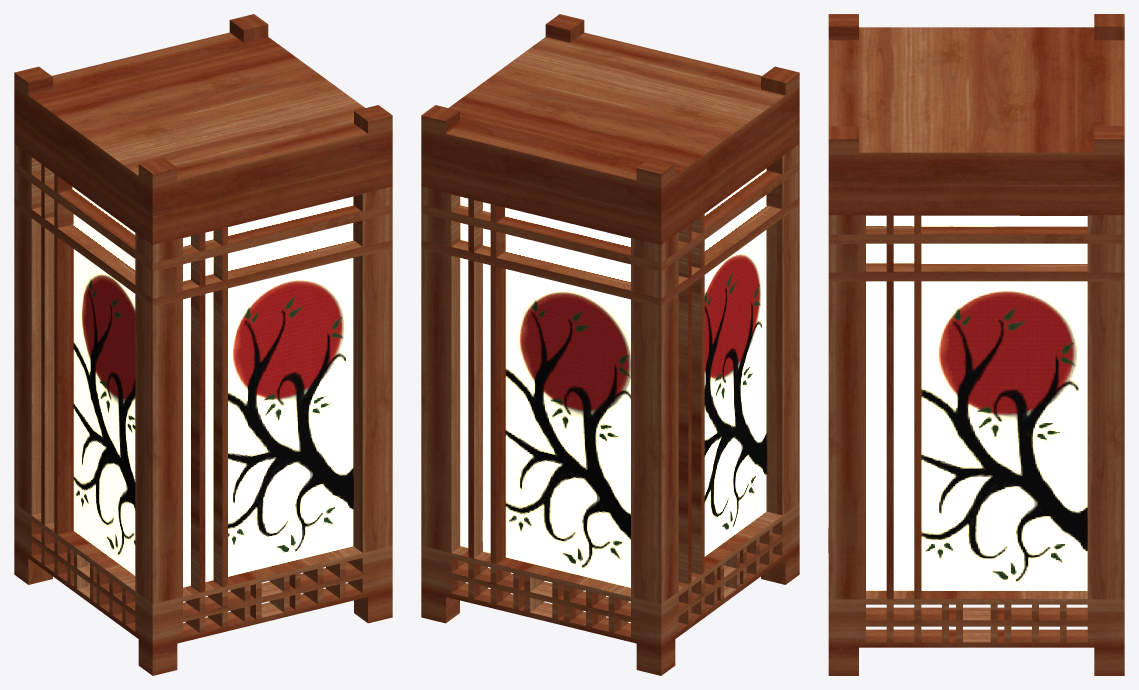
The picture shows the model from 3 angles, left to right: view 1: azimuth 30°, elevation 25°; view 2: azimuth 150°, elevation 25°; view 3: azimuth 270°, elevation 25°; orthographic projection. The views are drawn at different scales.
Visible parts, largest first — view 1: lamp; view 2: lamp; view 3: lamp.
Part boxes in pixels (x1=…): lamp: x1=14, y1=14, x2=392, y2=675; lamp: x1=421, y1=14, x2=799, y2=675; lamp: x1=828, y1=14, x2=1124, y2=675.
Bounding box in the file's own units: 0.3 × 0.6 × 0.3005.
1 material, 1 textured.
